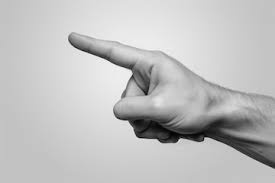pointing_gesture: (65, 31, 233, 147)
